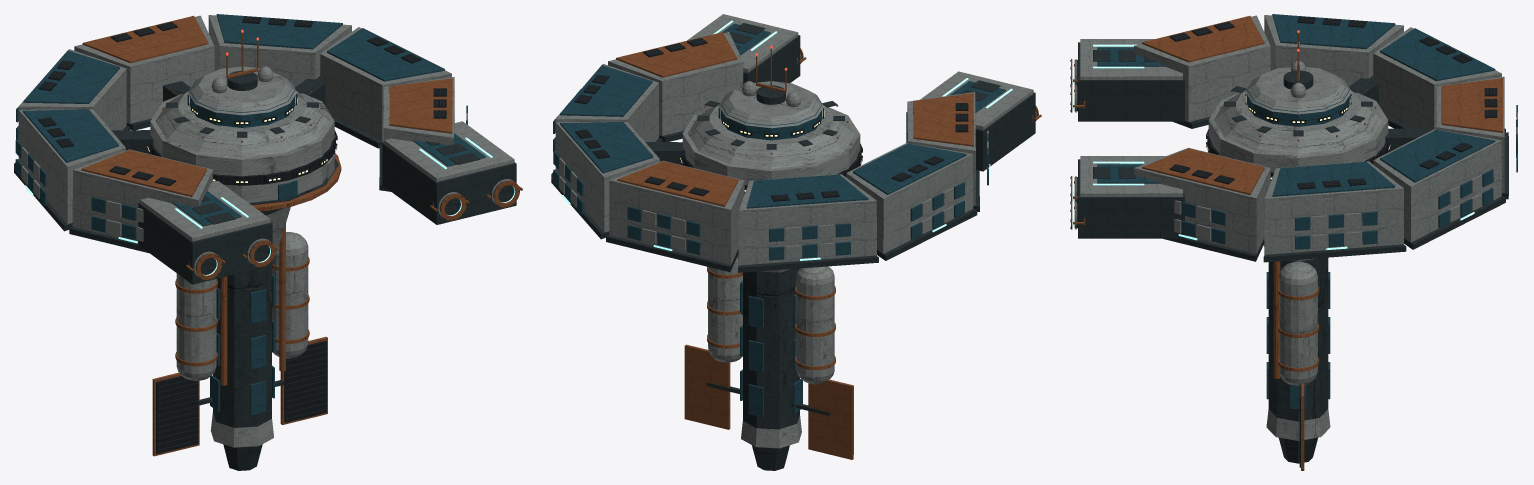
The model's file is kestrel_depot_industrial.glb.
3 views of the same model, side by side, from view 1: azimuth 30°, elevation 25°; view 2: azimuth 150°, elevation 25°; view 3: azimuth 270°, elevation 25° (orthographic). The views are drawn at different scales.
Parts seen in each view (by area): view 1: Stationary_Body_Industrial_Hull, Stationary_Body_Industrial_Frame, Stationary_Body_Industrial_Accent, Stationary_Body_Industrial_Trim, Stationary_Body_Industrial_Dark, Stationary_Body_Industrial_Guide; view 2: Stationary_Body_Industrial_Hull, Stationary_Body_Industrial_Accent, Stationary_Body_Industrial_Frame, Stationary_Body_Industrial_Trim, Stationary_Body_Industrial_Dark, Stationary_Body_Industrial_Guide; view 3: Stationary_Body_Industrial_Hull, Stationary_Body_Industrial_Frame, Stationary_Body_Industrial_Accent, Stationary_Body_Industrial_Trim, Stationary_Body_Industrial_Dark, Stationary_Body_Industrial_Guide.
Part boxes in pixels (x1,y1,x2,y2): Stationary_Body_Industrial_Hull: [18, 15, 514, 447]; Stationary_Body_Industrial_Frame: [14, 17, 519, 470]; Stationary_Body_Industrial_Accent: [15, 14, 485, 415]; Stationary_Body_Industrial_Trim: [81, 15, 522, 456]; Stationary_Body_Industrial_Dark: [38, 16, 446, 453]; Stationary_Body_Industrial_Guide: [25, 137, 515, 275]; Stationary_Body_Industrial_Hull: [555, 14, 1036, 448]; Stationary_Body_Industrial_Accent: [553, 23, 1005, 417]; Stationary_Body_Industrial_Frame: [551, 23, 1035, 470]; Stationary_Body_Industrial_Trim: [616, 26, 1041, 459]; Stationary_Body_Industrial_Dark: [574, 38, 968, 201]; Stationary_Body_Industrial_Guide: [562, 20, 1012, 260]; Stationary_Body_Industrial_Hull: [1075, 15, 1517, 440]; Stationary_Body_Industrial_Frame: [1070, 17, 1508, 463]; Stationary_Body_Industrial_Accent: [1097, 14, 1517, 408]; Stationary_Body_Industrial_Trim: [1071, 16, 1502, 470]; Stationary_Body_Industrial_Dark: [1169, 16, 1497, 467]; Stationary_Body_Industrial_Guide: [1072, 44, 1519, 250].
Size of the model in its own units: 107 by 112 by 106.
Materials: 8 (5 with a texture image).
